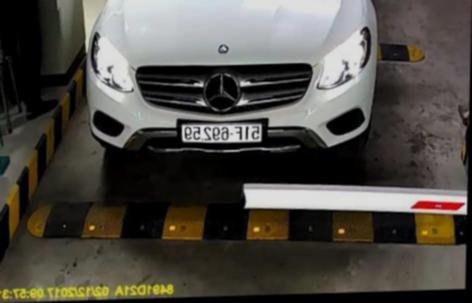License_Plate: (181, 119, 263, 149)
